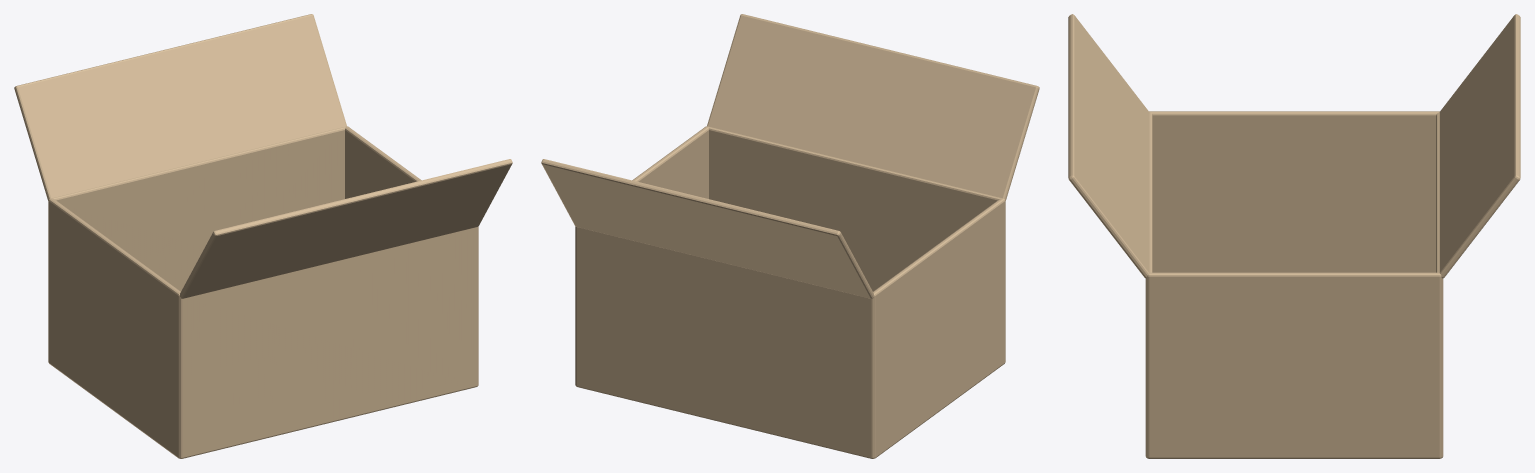
The model's file is parcel_open.fbx.
The picture shows the model from 3 angles, left to right: view 1: azimuth 30°, elevation 25°; view 2: azimuth 150°, elevation 25°; view 3: azimuth 270°, elevation 25°; orthographic projection. The views are drawn at different scales.
Parts seen in each view (by area): view 1: parcel_open; view 2: parcel_open; view 3: parcel_open.
Part boxes in pixels (<box>): parcel_open: <box>14,14,512,458</box>; parcel_open: <box>541,14,1039,458</box>; parcel_open: <box>1068,14,1520,458</box>.
Size of the model in its own units: 0.342 by 0.2751 by 0.3981.
